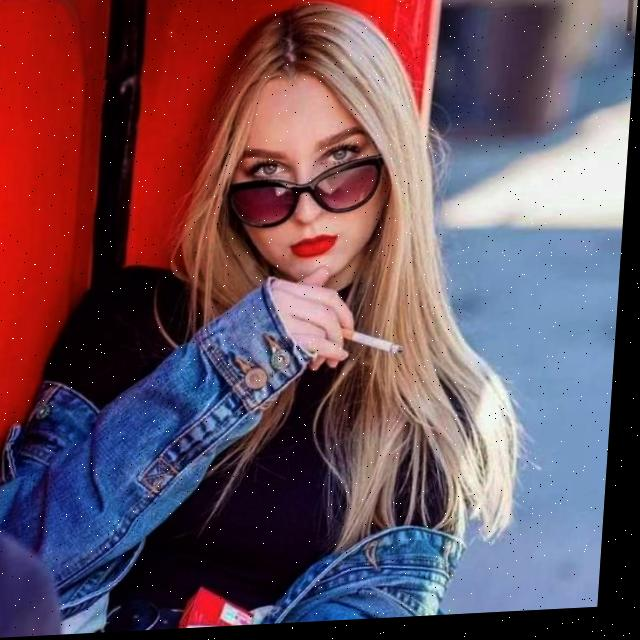cigarette: (344, 329, 408, 363)
